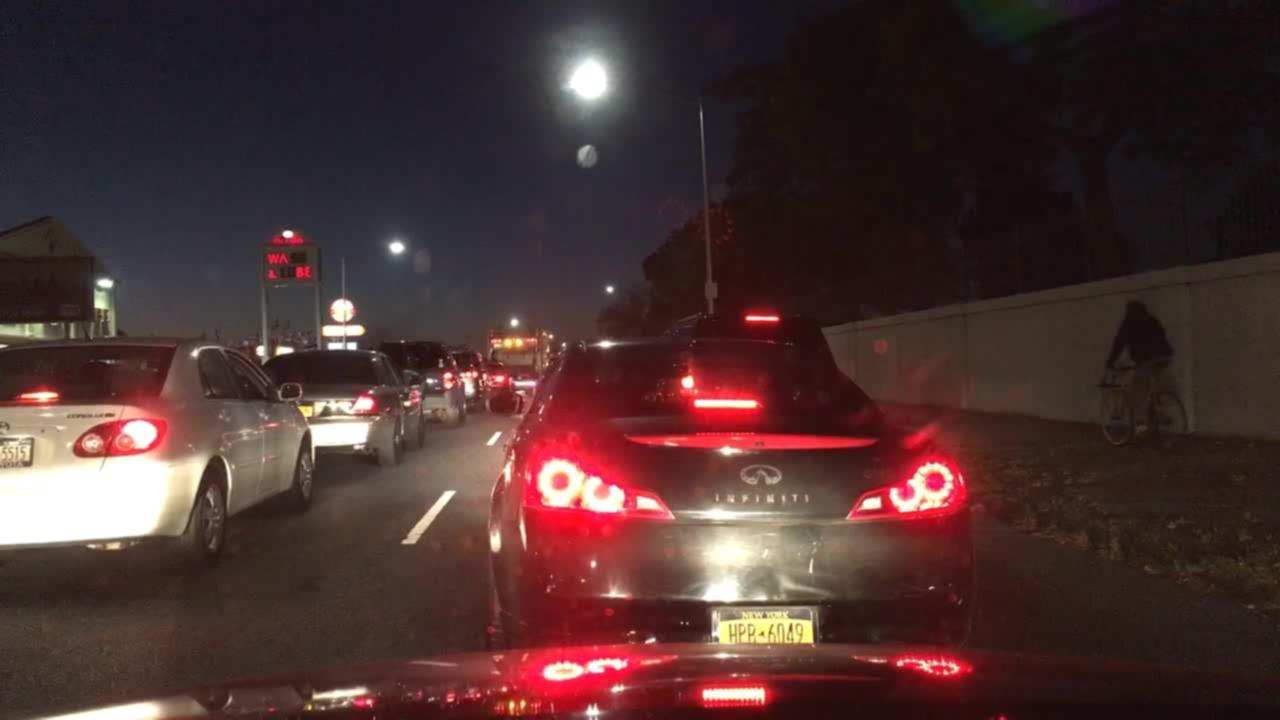Infiniti: (719, 451, 814, 495)
